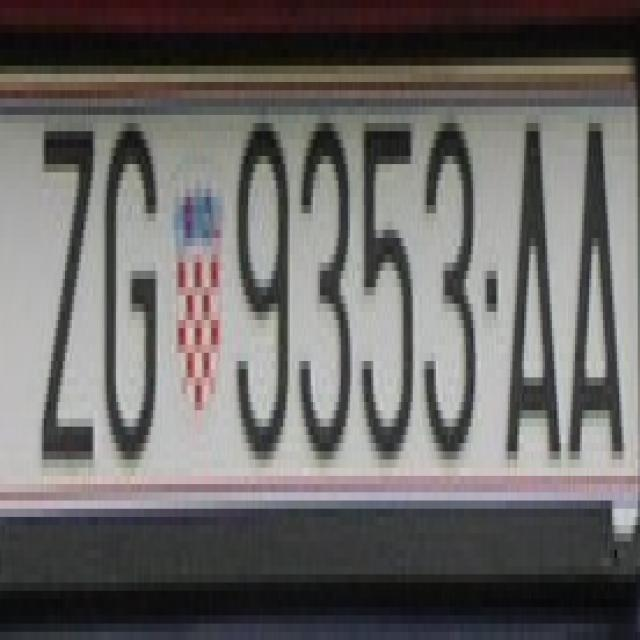3: (294, 90, 355, 476), (422, 99, 478, 468)
5: (355, 99, 415, 468)
9: (227, 107, 292, 460)
A: (568, 99, 629, 468), (505, 99, 566, 468)
G: (98, 90, 164, 476)
Z: (30, 82, 102, 492)
